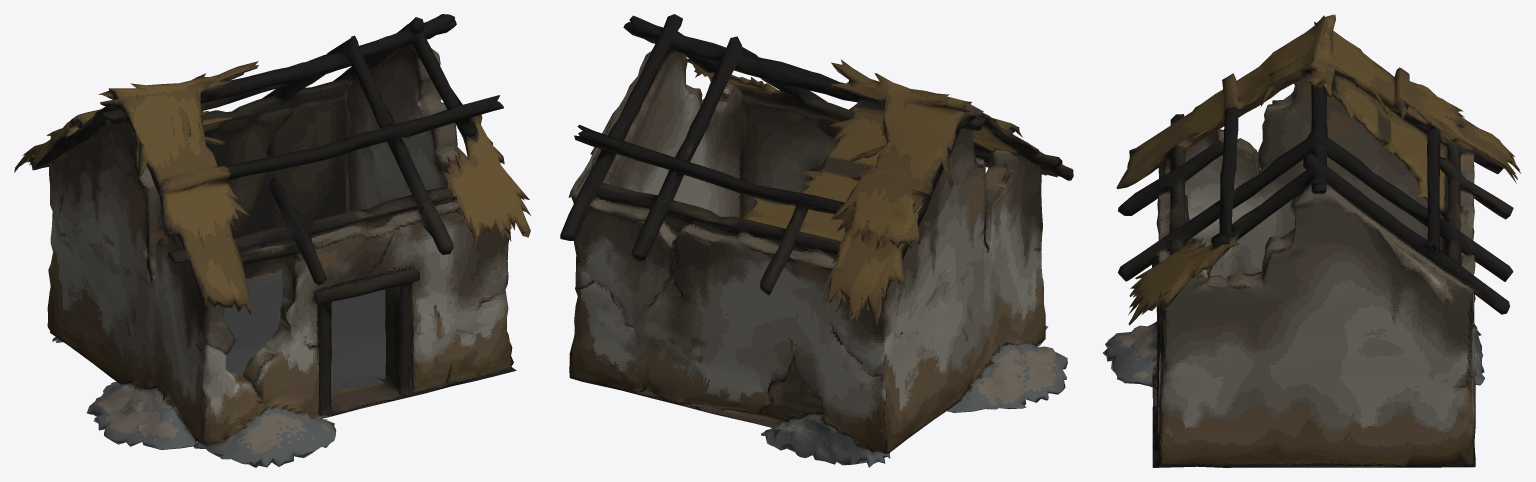
The model's file is rancho.glb.
3 renders of one model, left to right at view 1: azimuth 30°, elevation 25°; view 2: azimuth 150°, elevation 25°; view 3: azimuth 270°, elevation 25°, orthographic. The views are drawn at different scales.
Visible parts, largest first — view 1: tripo_node_d7544b6e-4ecf-4ba0-ab30-47ec2a56631a; view 2: tripo_node_d7544b6e-4ecf-4ba0-ab30-47ec2a56631a; view 3: tripo_node_d7544b6e-4ecf-4ba0-ab30-47ec2a56631a.
Part boxes in pixels (x1=…): tripo_node_d7544b6e-4ecf-4ba0-ab30-47ec2a56631a: x1=14, y1=14, x2=530, y2=467; tripo_node_d7544b6e-4ecf-4ba0-ab30-47ec2a56631a: x1=560, y1=14, x2=1073, y2=467; tripo_node_d7544b6e-4ecf-4ba0-ab30-47ec2a56631a: x1=1103, y1=14, x2=1520, y2=467.
Size of the model in its own units: 1.27 by 1 by 1.18.
Materials: 1 (1 with a texture image).
